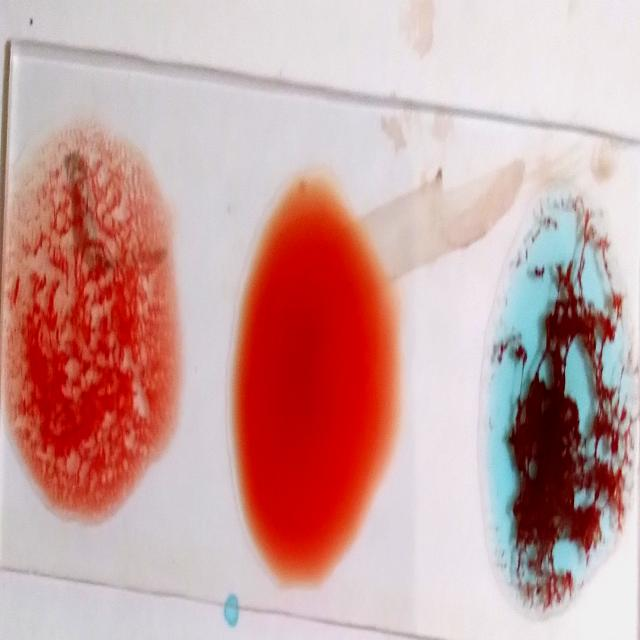A: (486, 203, 640, 610)
D: (6, 140, 169, 530)
